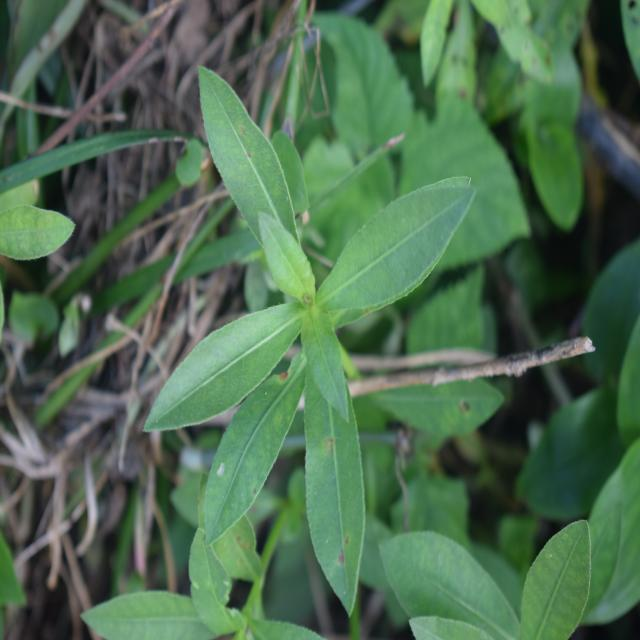Alligatorweed: (178, 77, 439, 591)
